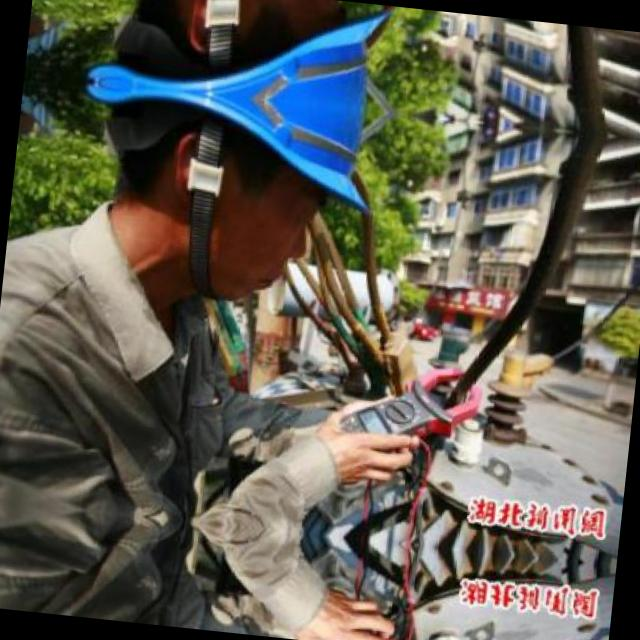helmet: (58, 80, 384, 318), (79, 0, 397, 112)
